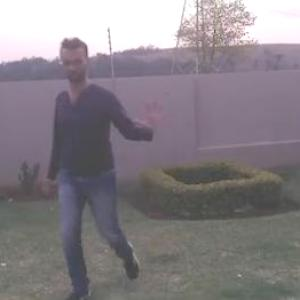follow_hand: (130, 95, 169, 133)
